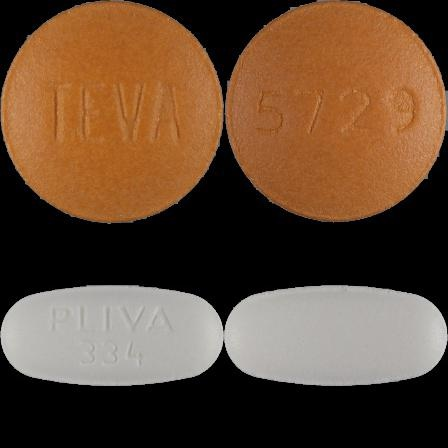0179-1471: (0, 0, 224, 224)
